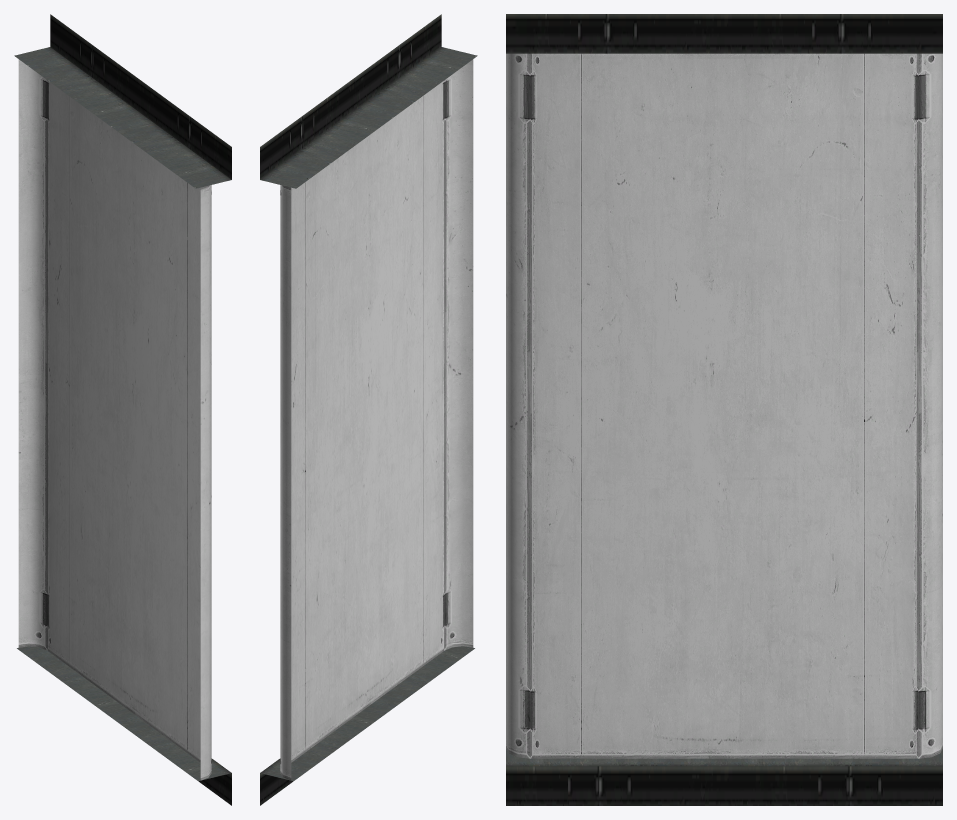
The model's file is Neon_Wall_2x4_01B.FBX.
3 renders of one model, left to right at view 1: azimuth 30°, elevation 25°; view 2: azimuth 150°, elevation 25°; view 3: azimuth 270°, elevation 25°, orthographic. The views are drawn at different scales.
Parts seen in each view (by area): view 1: Neon_Wall_2x4_01B; view 2: Neon_Wall_2x4_01B; view 3: Neon_Wall_2x4_01B.
Part boxes in pixels (bbox=[...]): Neon_Wall_2x4_01B: bbox=[14, 14, 231, 805]; Neon_Wall_2x4_01B: bbox=[260, 14, 477, 805]; Neon_Wall_2x4_01B: bbox=[506, 14, 942, 805].
Size of the model in its own units: 0.2298 by 4 by 2.
